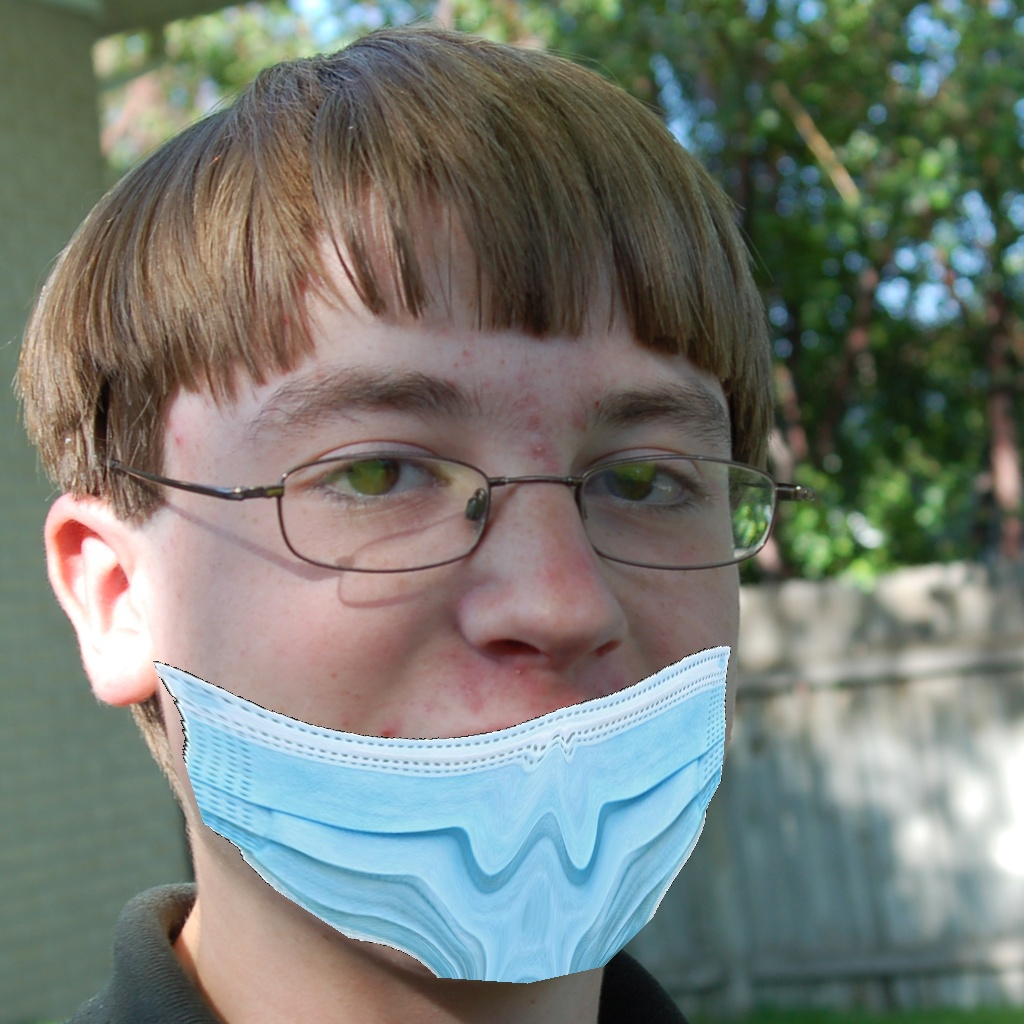mask_weared_incorrect: (137, 374, 749, 999)
